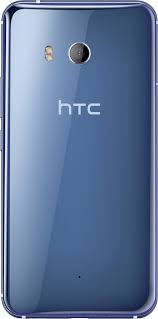htc: (1, 1, 158, 319)
